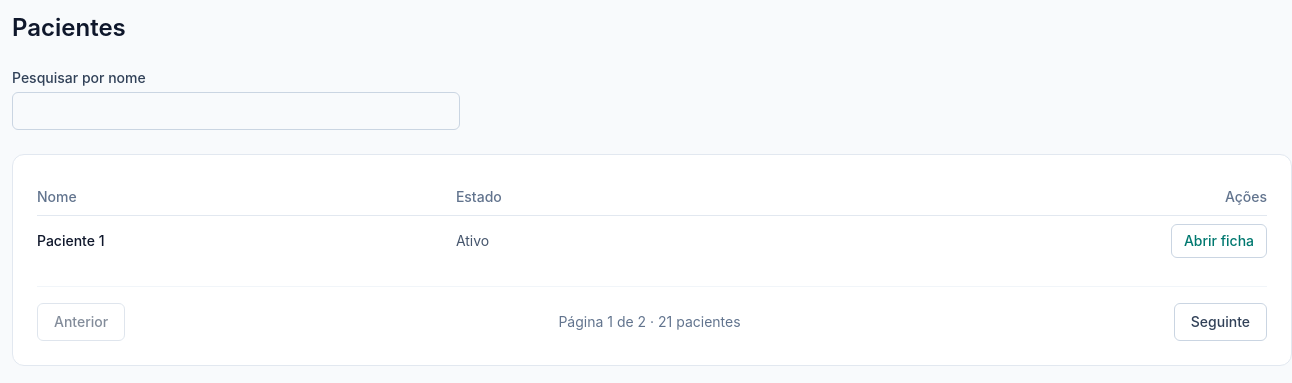
Test case: PatientsPage › changes page without resetting search in the URL
What coordinates should you click on to do the following:
click the button "Seguinte"
I would click on:
 (1220, 322)
Its box is [1174, 303, 1267, 341].
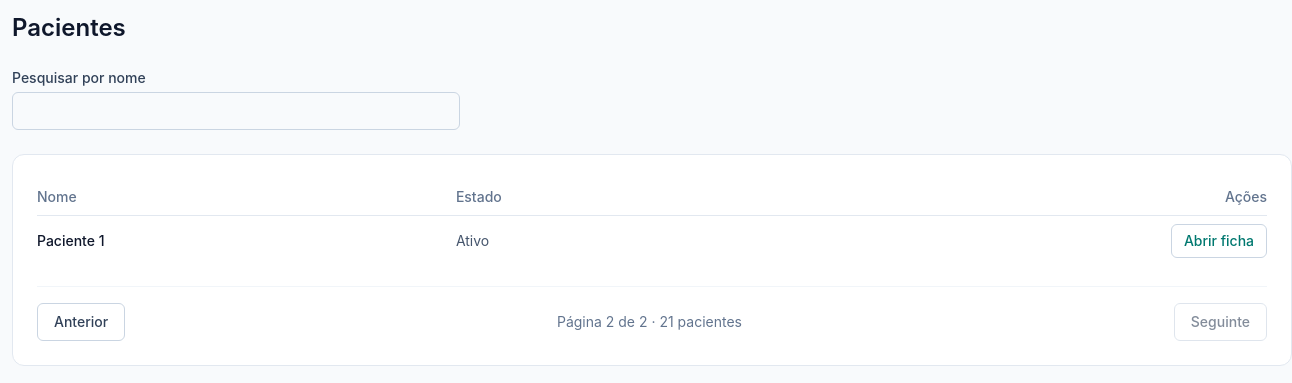
What coordinates should you click on to do the following:
click the button "Anterior"
I would click on:
 (81, 322)
Its box is [37, 303, 125, 341].
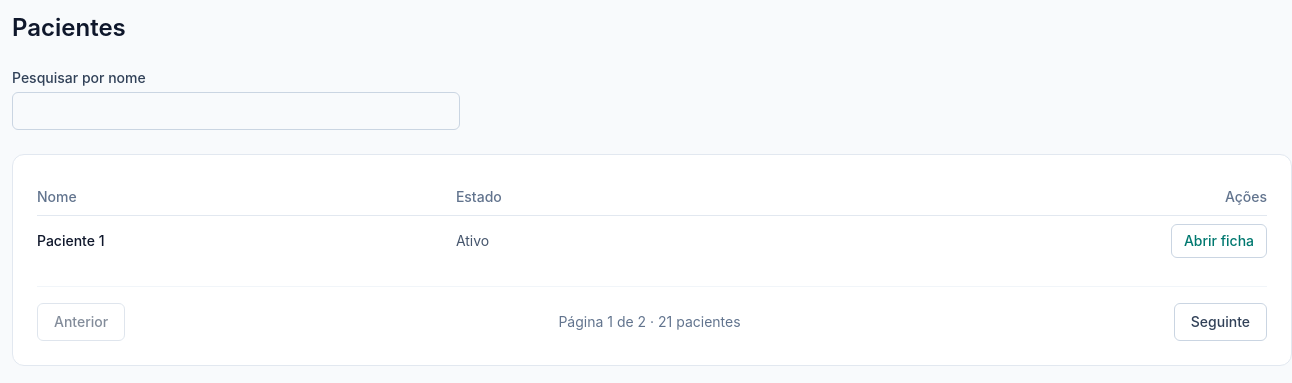
Check: the text "Página 1 de 2 · 21 pacientes" is shown, box [558, 312, 741, 332]
